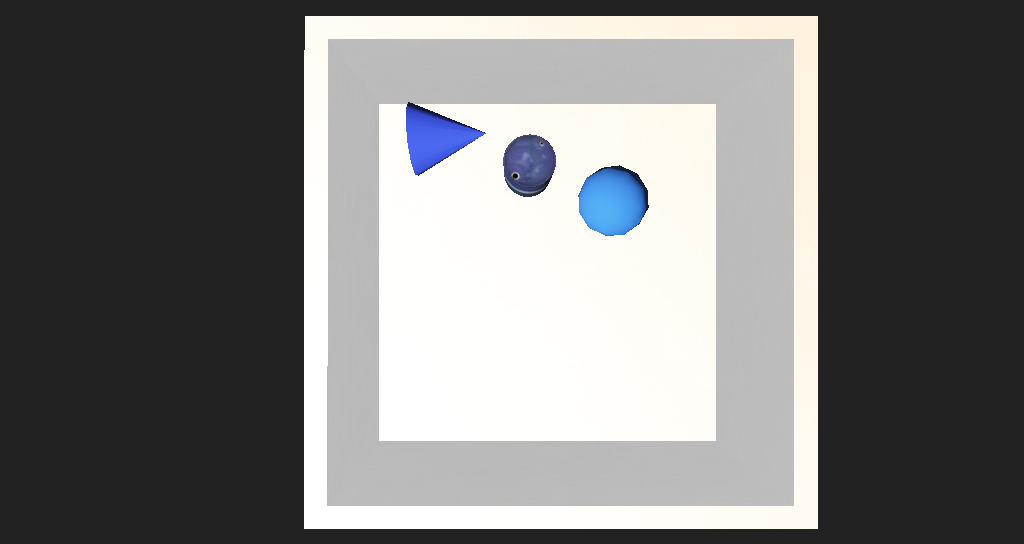cone: (468, 181, 515, 220)
cylinder: (371, 150, 451, 212)
sphere: (536, 203, 596, 246)
